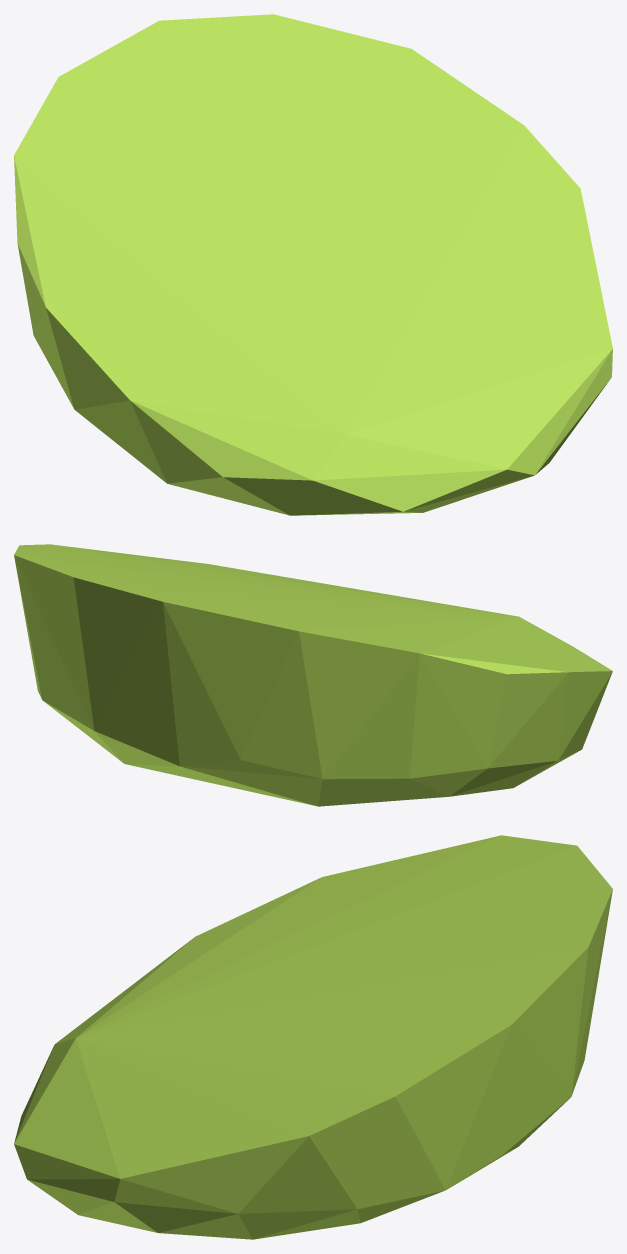
The model's file is ur10e_link_3_coll_7.dae.
3 renders of one model, top to bottom at view 1: azimuth 30°, elevation 25°; view 2: azimuth 150°, elevation 25°; view 3: azimuth 270°, elevation 25°, orthographic.
Visible parts, largest first — view 1: node; view 2: node; view 3: node.
Part boxes in pixels (x1=…): node: x1=14, y1=14, x2=612, y2=515; node: x1=14, y1=544, x2=612, y2=806; node: x1=14, y1=835, x2=612, y2=1239.
Size of the model in its own units: 0.1221 by 0.061 by 0.1217.
